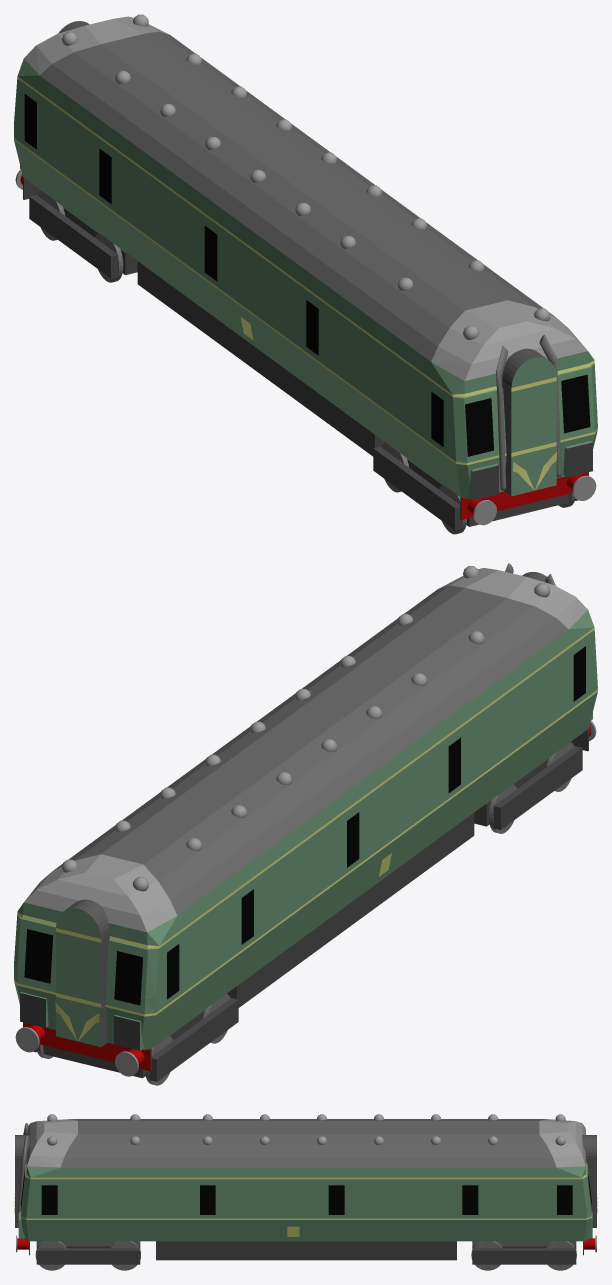
3 views of the same model, one above another, from view 1: azimuth 30°, elevation 25°; view 2: azimuth 150°, elevation 25°; view 3: azimuth 270°, elevation 25° (orthographic). The views are drawn at different scales.
Parts seen in each view (by area): view 1: Plane_002, Cube_012, Cube_006, Cube_004, Cube_001, Cylinder_014, Plane_001, Plane_003, Cube_008, Cube_002, Cylinder_013, Cube_011 (+2 smaller); view 2: Plane_002, Cube_012, Cube_007, Cube_001, Cube_004, Cylinder_015, Cube_009, Plane_004, Plane_005, Cube_003, Cube_013, Cube_014; view 3: Plane_002, Cube_012, Cube, Cube_005, Plane, Plane_009, Plane_010, Cube_007, Plane_006, Plane_007, Cube_003, Cube_002 (+8 smaller).
Part boxes in pixels (box(x1,y1,x2,y2)): Plane_002: box(14, 16, 597, 498); Cube_012: box(137, 261, 384, 456); Cube_006: box(502, 381, 556, 496); Cube_004: box(29, 195, 118, 278); Cube_001: box(373, 446, 462, 530); Cylinder_014: box(502, 348, 556, 387); Plane_001: box(561, 374, 590, 433); Plane_003: box(465, 398, 493, 456); Cube_008: box(460, 472, 588, 519); Cube_002: box(407, 458, 568, 526); Cylinder_013: box(495, 345, 508, 490); Cube_011: box(468, 463, 498, 500); Plane_002: box(14, 568, 597, 1050); Cube_012: box(227, 813, 474, 1007); Cube_007: box(56, 932, 109, 1046); Cube_001: box(493, 746, 582, 829); Cube_004: box(149, 998, 238, 1081); Cylinder_015: box(56, 899, 109, 938); Cube_009: box(23, 1022, 151, 1071); Plane_004: box(114, 951, 142, 1005); Plane_005: box(24, 929, 53, 983); Cube_003: box(43, 1009, 205, 1078); Cube_013: box(114, 1015, 143, 1050); Cube_014: box(20, 992, 48, 1027); Plane_002: box(21, 1119, 591, 1241); Cube_012: box(156, 1241, 456, 1260); Cube: box(36, 1248, 140, 1264); Cube_005: box(472, 1248, 576, 1264); Plane: box(41, 1185, 57, 1214); Plane_009: box(328, 1185, 344, 1214); Plane_010: box(462, 1185, 478, 1214); Cube_007: box(586, 1159, 596, 1227); Plane_006: box(200, 1185, 215, 1214); Plane_007: box(557, 1185, 572, 1214); Cube_003: box(472, 1241, 576, 1248); Cube_002: box(36, 1241, 140, 1248).
Bounding box in the file's own units: 2 × 11.26 × 2.71.
